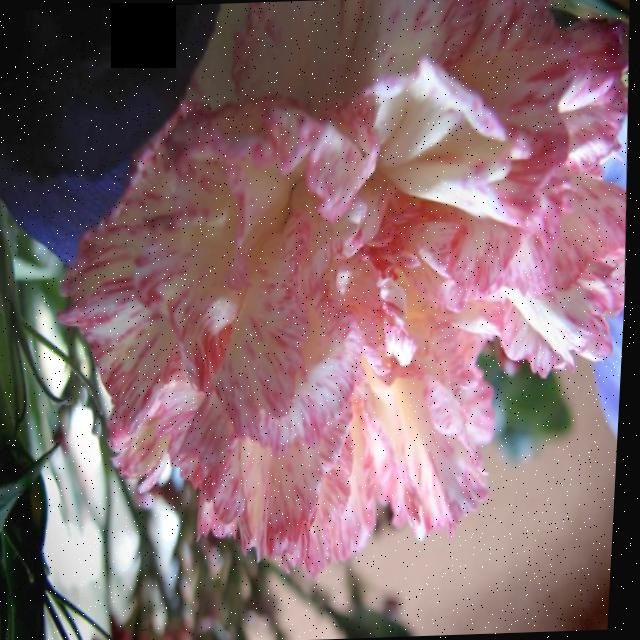carnation: (72, 0, 640, 563)
